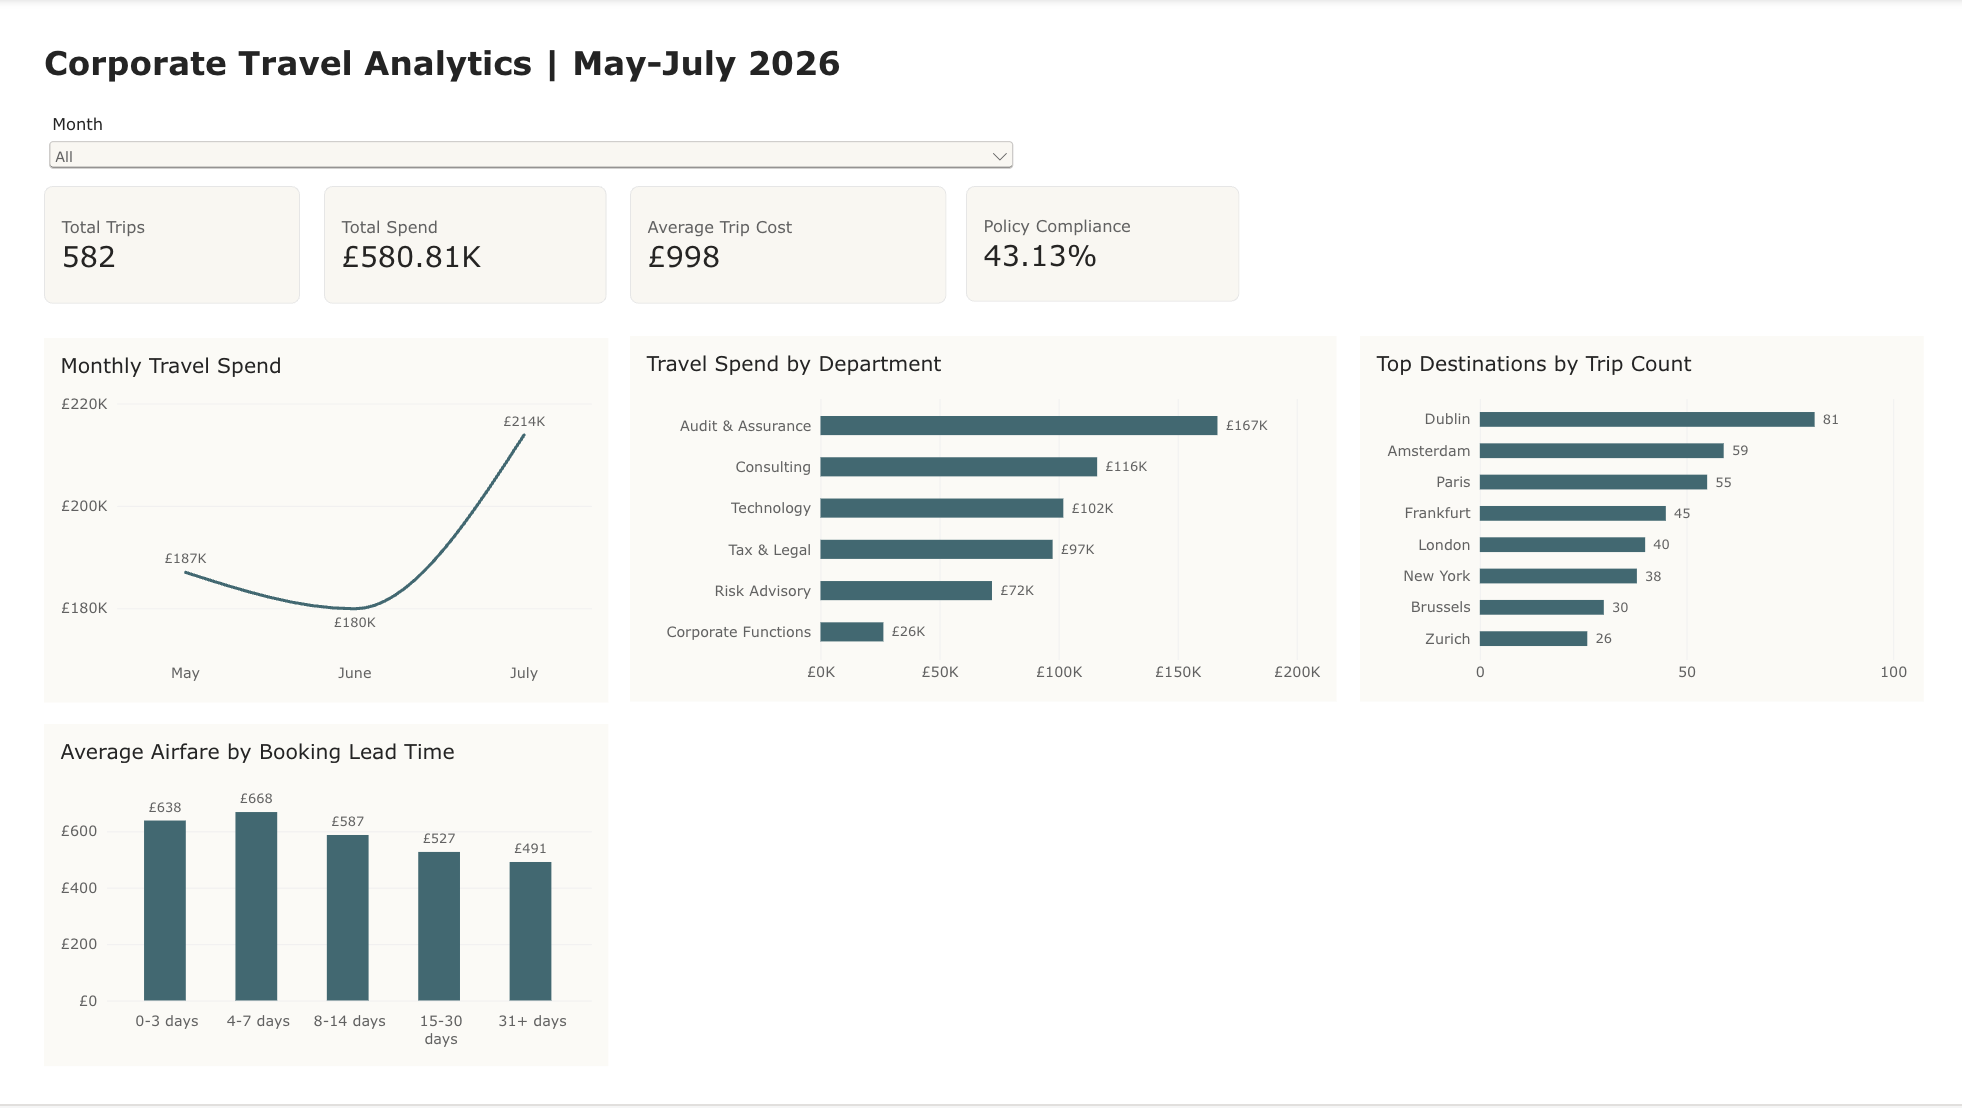

What the dashboard file says about the page in this screenshot:
{"tool":"powerbi","page":{"name":"Page 1","canvas":[1920,1080],"ordinal":0},"visuals":[{"type":"textbox","box":[42,42,951.4,71.7],"z":0},{"type":"slicer","fields":{"Values":["trips 1.Month Label"]},"box":[42,113.7,951.4,71.7],"z":1000},{"type":"cardVisual","fields":{"Data":["Count(trips 1.trip_id)"]},"box":[42.5,184.3,250.5,115.8],"z":2000},{"type":"cardVisual","fields":{"Data":["Sum(trips 1.final_trip_cost_gbp)"]},"box":[316.7,184.3,276.5,115.8],"z":3000},{"type":"cardVisual","fields":{"Data":["Avg(trips 1.final_trip_cost_gbp)"]},"box":[614.4,184.3,309.6,115.8],"z":4000},{"type":"cardVisual","fields":{"Data":["trips 1.Policy Compliance %"]},"box":[942.9,184.3,267,113.4],"z":5000},{"type":"lineChart","title":"Monthly Travel Spend","fields":{"Category":["trips 1.travel_month.Variation.Date Hierarchy.Month"],"Y":["Sum(trips 1.final_trip_cost_gbp)"]},"box":[42,331.1,551,355.8],"z":6000},{"type":"barChart","title":"Travel Spend by Department","fields":{"Category":["trips 1.department"],"Y":["Sum(trips 1.final_trip_cost_gbp)"]},"box":[614.4,330.9,690.1,356.8],"z":7000},{"type":"barChart","title":"Top Destinations by Trip Count","fields":{"Category":["trips 1.destination"],"Y":["Count(trips 1.trip_id)"]},"box":[1328.1,330.9,550.6,356.8],"z":8000},{"type":"clusteredColumnChart","title":"Average Airfare by Booking Lead Time","fields":{"Category":["trips 1.booking_lead_bucket"],"Y":["Avg(trips 1.airfare_gbp)"]},"box":[42,709.2,551,334],"z":9000}]}

Visuals, with their boxes in screenshot pixels (x1, y1, x2, y2), scaled from the page's 1920x1080 canvas onto the 1962x1108 screenshot:
textbox: {"left": 43, "top": 43, "right": 1015, "bottom": 117}
slicer - trips 1.Month Label: {"left": 43, "top": 117, "right": 1015, "bottom": 190}
cardVisual - Count(trips 1.trip_id): {"left": 43, "top": 189, "right": 299, "bottom": 308}
cardVisual - Sum(trips 1.final_trip_cost_gbp): {"left": 324, "top": 189, "right": 606, "bottom": 308}
cardVisual - Avg(trips 1.final_trip_cost_gbp): {"left": 628, "top": 189, "right": 944, "bottom": 308}
cardVisual - trips 1.Policy Compliance %: {"left": 964, "top": 189, "right": 1236, "bottom": 305}
"Monthly Travel Spend" lineChart: {"left": 43, "top": 340, "right": 606, "bottom": 705}
"Travel Spend by Department" barChart: {"left": 628, "top": 339, "right": 1333, "bottom": 706}
"Top Destinations by Trip Count" barChart: {"left": 1357, "top": 339, "right": 1920, "bottom": 706}
"Average Airfare by Booking Lead Time" clusteredColumnChart: {"left": 43, "top": 728, "right": 606, "bottom": 1070}
